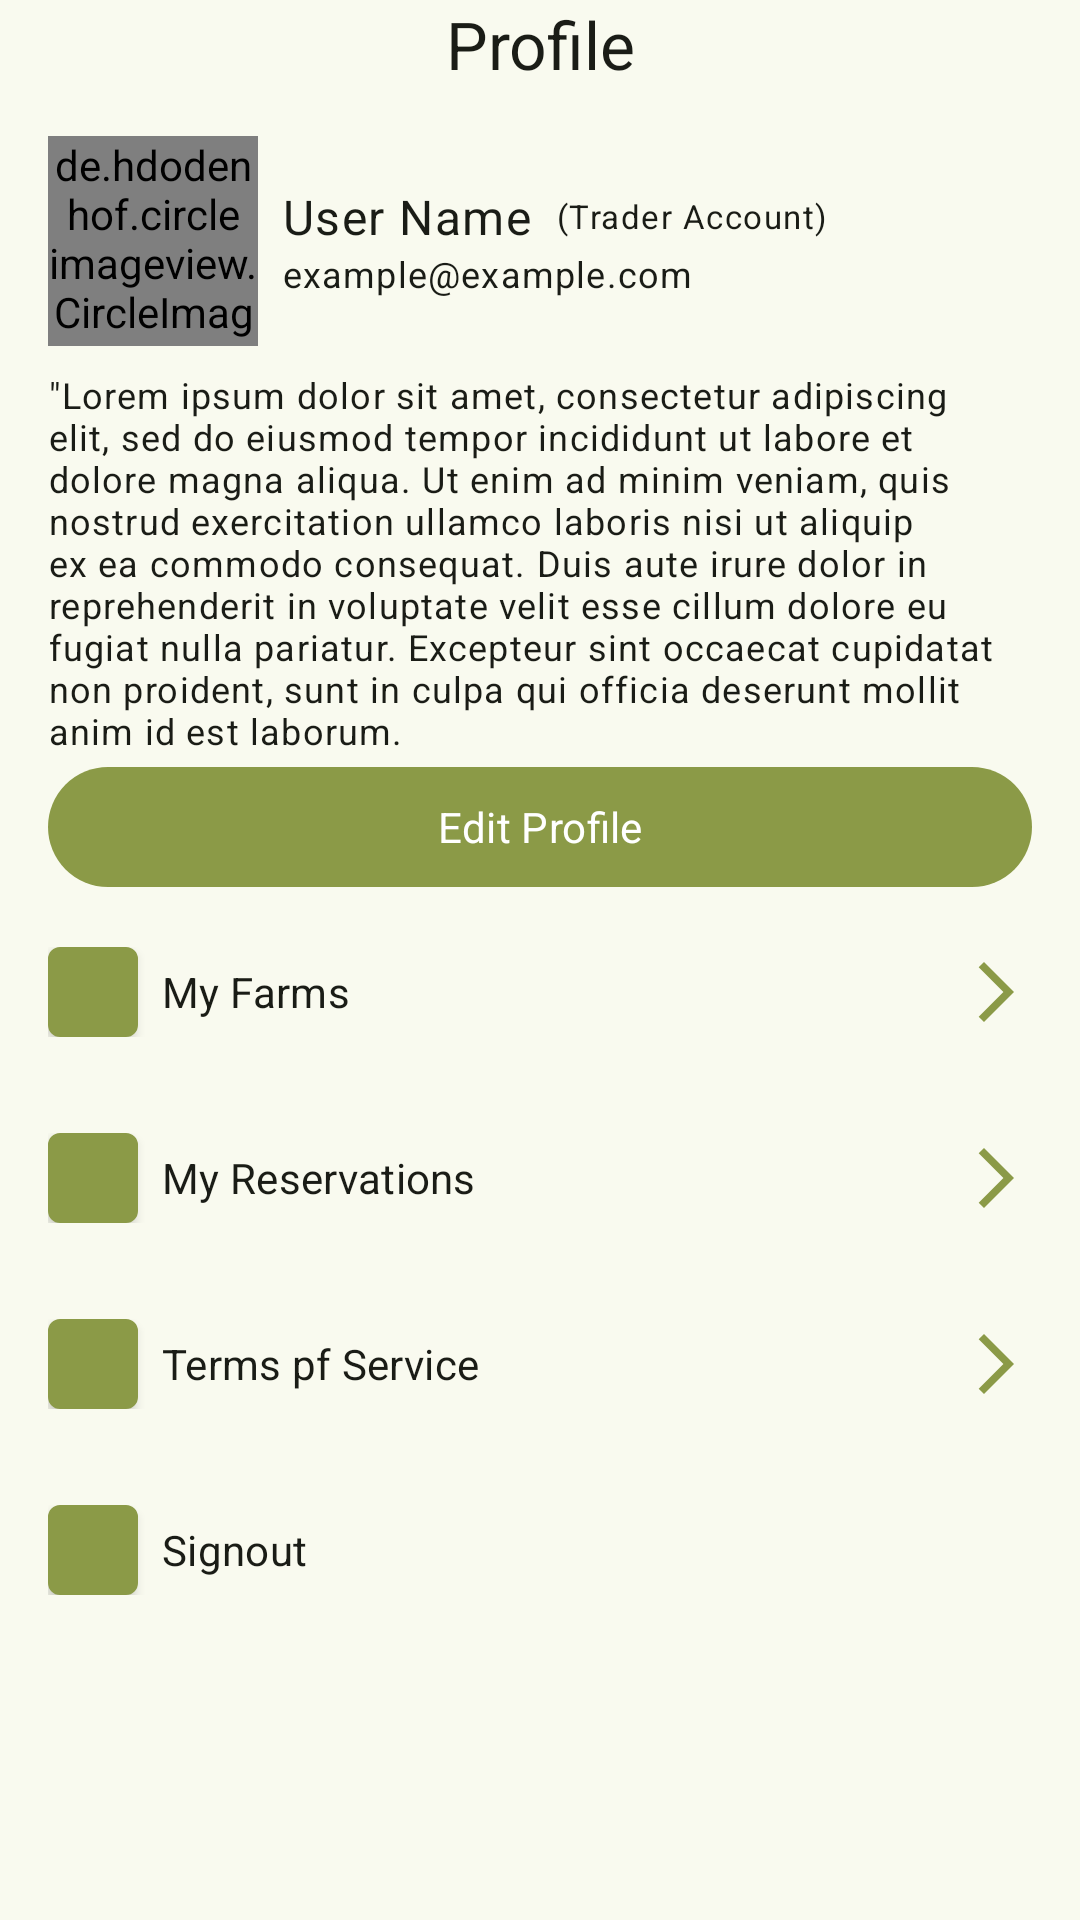

Locate icon controls on the screen. Image size 1080×1920, boxes as rect(x1, y1, x2, y2).
arrow forward: rect(979, 962, 1014, 1022), rect(979, 1148, 1014, 1208), rect(979, 1334, 1014, 1394)
